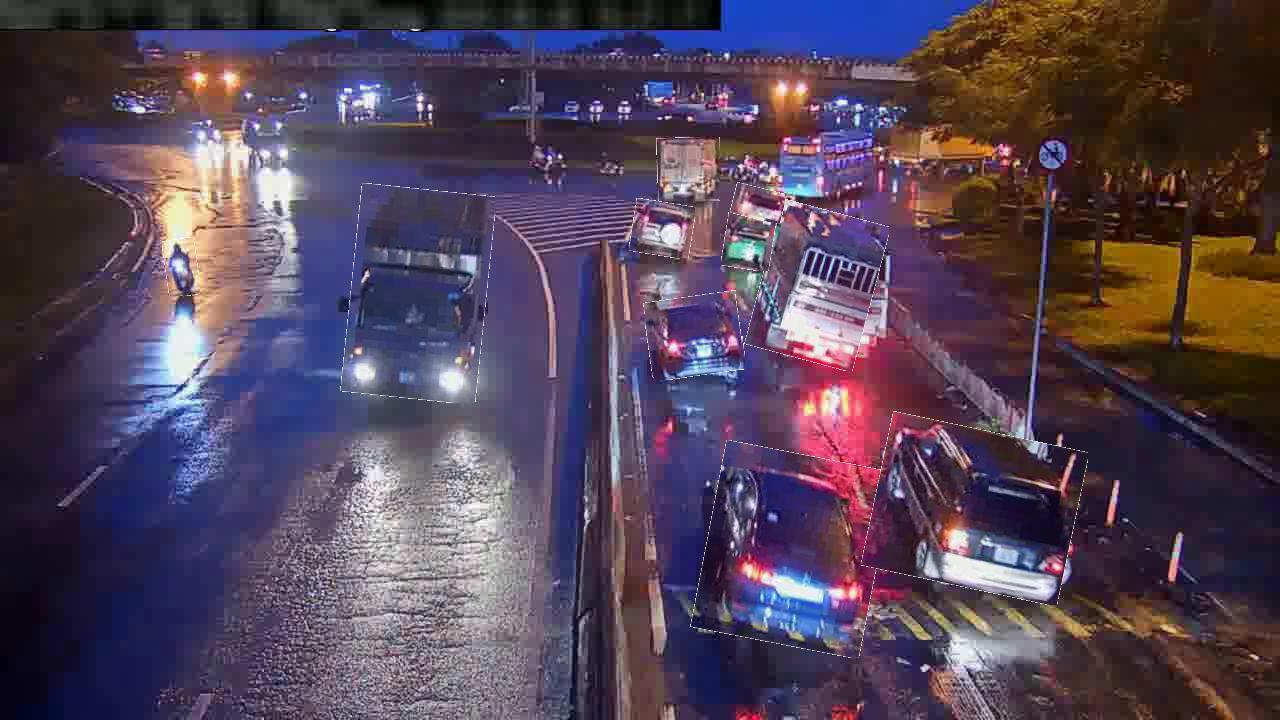8: (346, 186, 491, 401), (753, 205, 882, 367), (657, 138, 721, 202)
container: (699, 448, 886, 652), (868, 421, 1082, 597), (646, 293, 744, 378), (631, 200, 695, 257), (723, 214, 775, 271), (732, 185, 785, 222)
motorbike: (164, 238, 200, 297)
